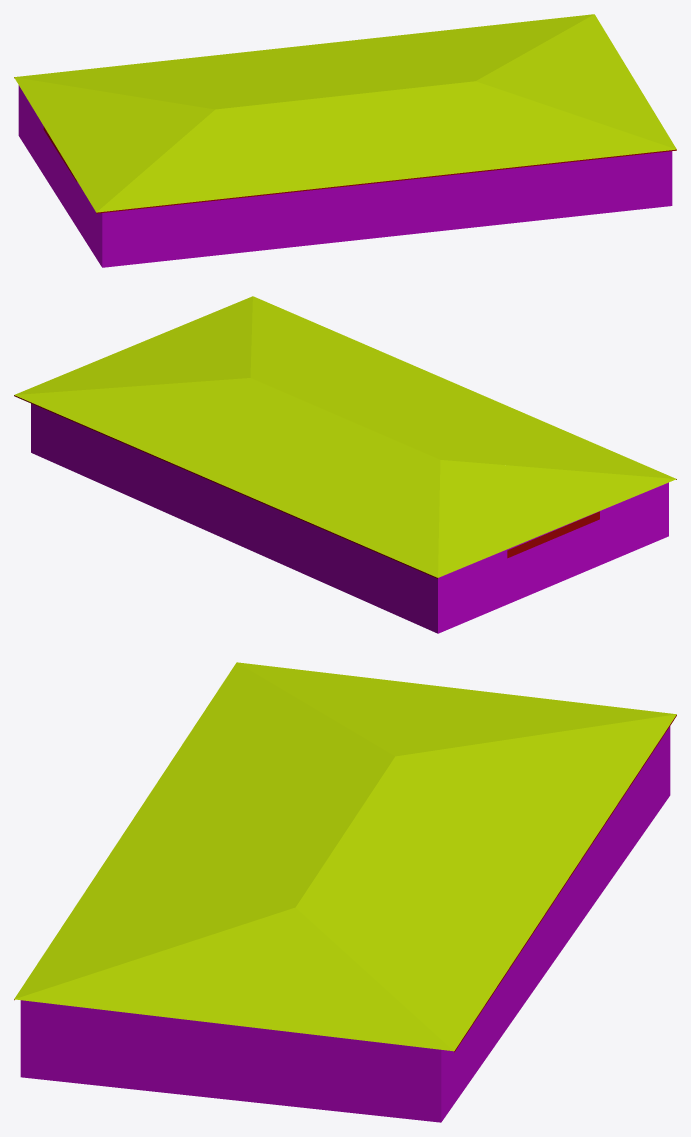
Rendered from ssv_20.glb.
3 renders of one model, top to bottom at view 1: azimuth 30°, elevation 25°; view 2: azimuth 150°, elevation 25°; view 3: azimuth 270°, elevation 25°, orthographic. The views are drawn at different scales.
Visible parts, largest first — view 1: ssv_20; view 2: ssv_20; view 3: ssv_20.
Boxes of the visible parts, x1,y1,x2,y2 form: ssv_20: [14, 14, 676, 267]; ssv_20: [14, 296, 676, 633]; ssv_20: [14, 662, 676, 1122].
Bounding box in the file's own units: 68.71 × 8.59 × 49.49.
